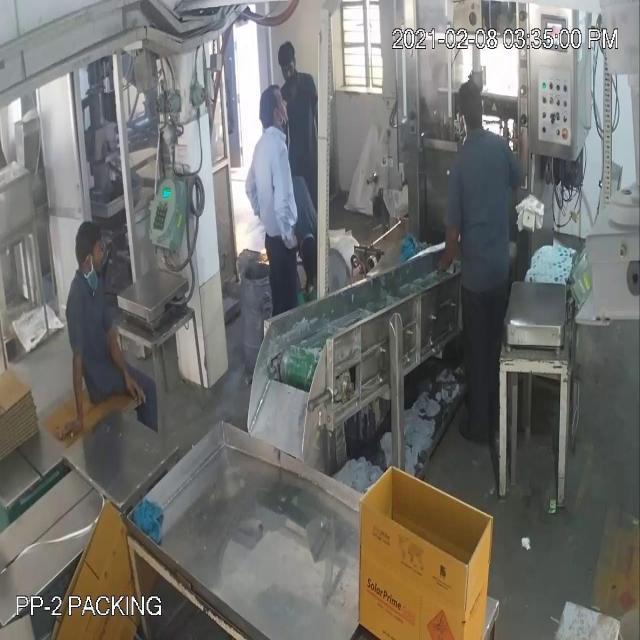No_Gloves: (29, 79, 445, 392)
